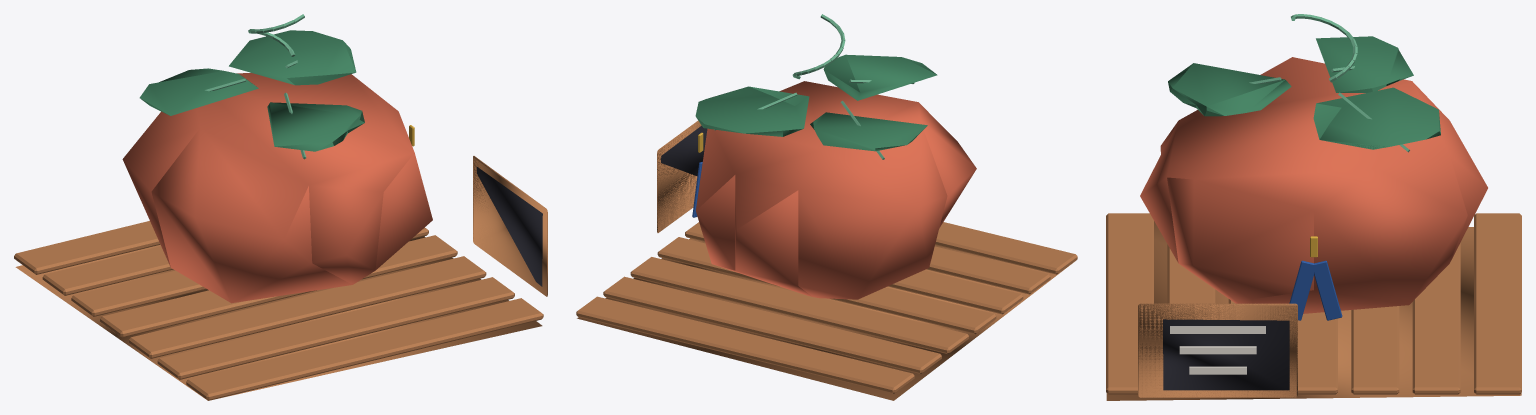
Rendered from prize_pumpkin.glb.
3 renders of one model, left to right at view 1: azimuth 30°, elevation 25°; view 2: azimuth 150°, elevation 25°; view 3: azimuth 270°, elevation 25°, orthographic. The views are drawn at different scales.
Parts seen in each view (by area): view 1: prize_pumpkin; view 2: prize_pumpkin; view 3: prize_pumpkin.
Part boxes in pixels (x1,y1,x2,y2): prize_pumpkin: [14, 14, 547, 400]; prize_pumpkin: [576, 14, 1077, 400]; prize_pumpkin: [1106, 14, 1521, 400].
Bounding box in the file's own units: 2.78 × 2.11 × 2.6.
Materials: 1 (1 with a texture image).
